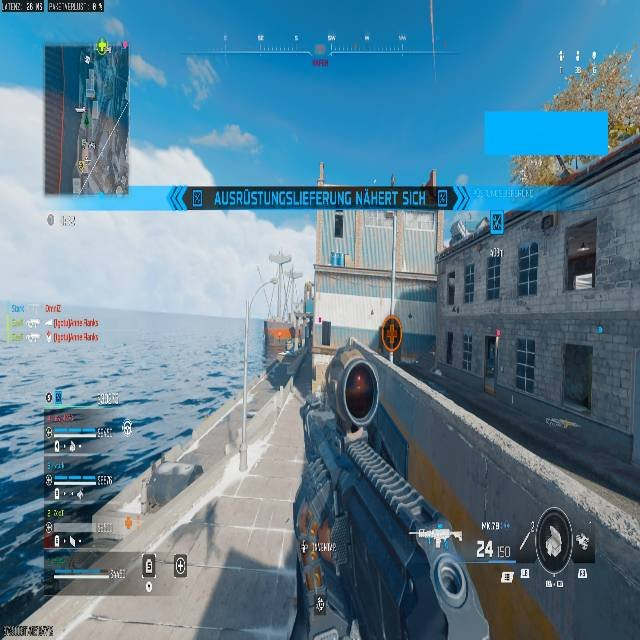head: (377, 315, 403, 353)
